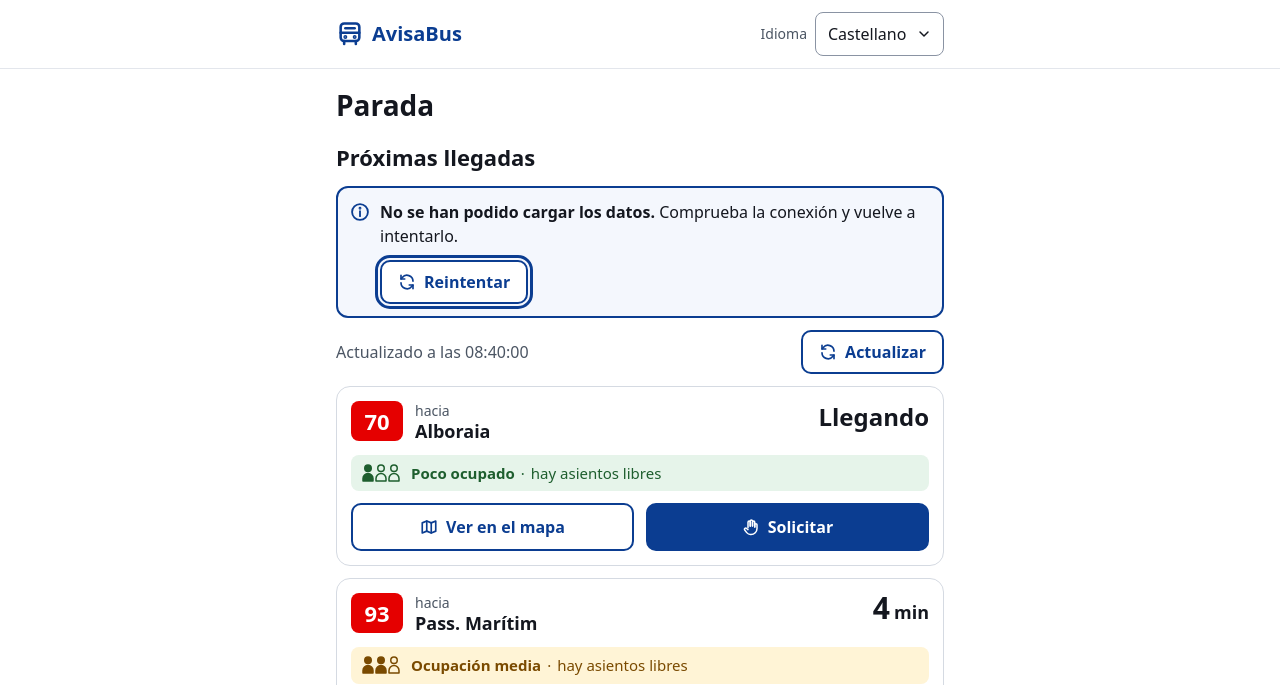
StopPage errors and connectivity › [passenger_stop_view.AC-24] [passenger_stop_view.AC-16] "Reintentar" after a failure of the stop answered with a 404 moves the focus to the "Parada no encontrad
This screenshot has width=1280, height=685.
Click the button "Reintentar" at coordinates (454, 282), box left=380, top=260, right=528, bottom=304
Wait 100 ms
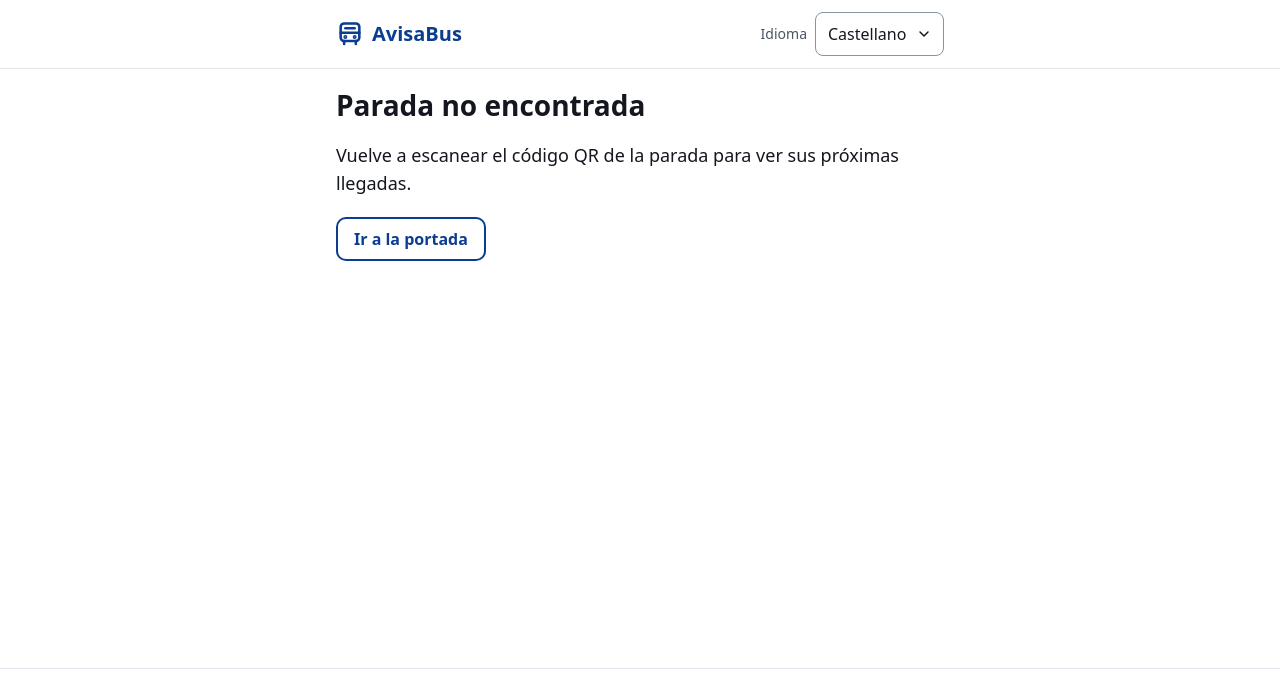
Now the heading reads "Parada no encontrada", box left=336, top=86, right=645, bottom=124
